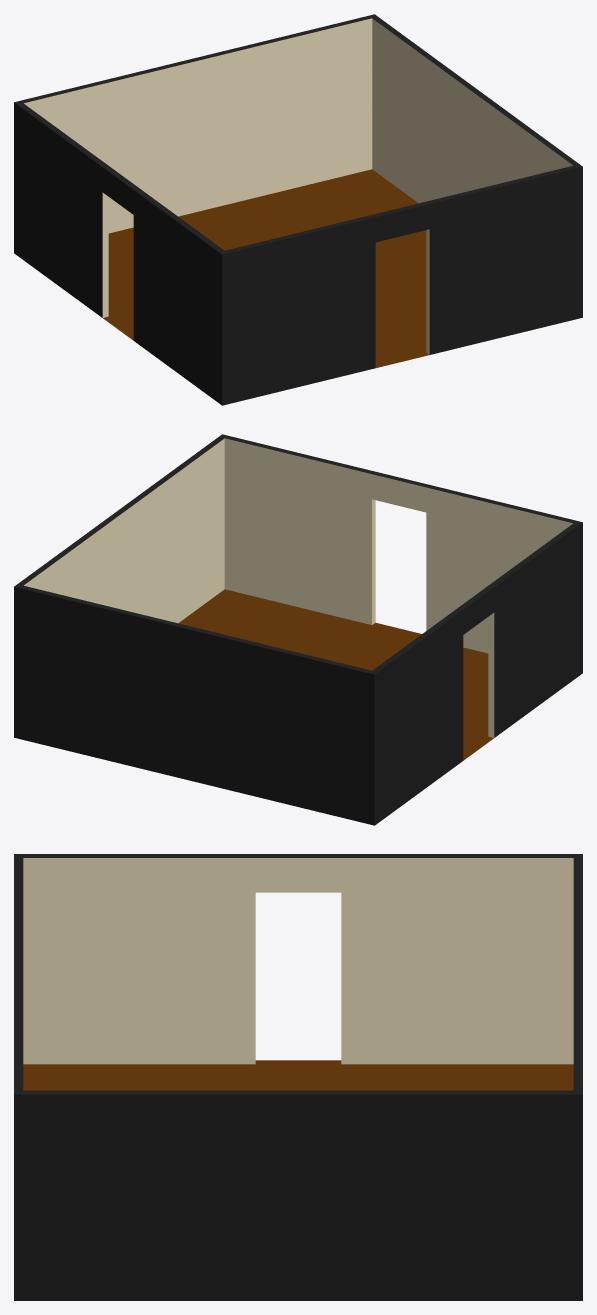
The picture shows the model from 3 angles, top to bottom: view 1: azimuth 30°, elevation 25°; view 2: azimuth 150°, elevation 25°; view 3: azimuth 270°, elevation 25°; orthographic projection. The views are drawn at different scales.
Parts seen in each view (by area): view 1: PE_1x1_2DC; view 2: PE_1x1_2DC; view 3: PE_1x1_2DC.
Boxes of the visible parts, x1,y1,x2,y2 form: PE_1x1_2DC: [14, 14, 582, 405]; PE_1x1_2DC: [14, 434, 582, 825]; PE_1x1_2DC: [14, 854, 582, 1300].
Bounding box in the file's own units: 24 × 9.6 × 24.
